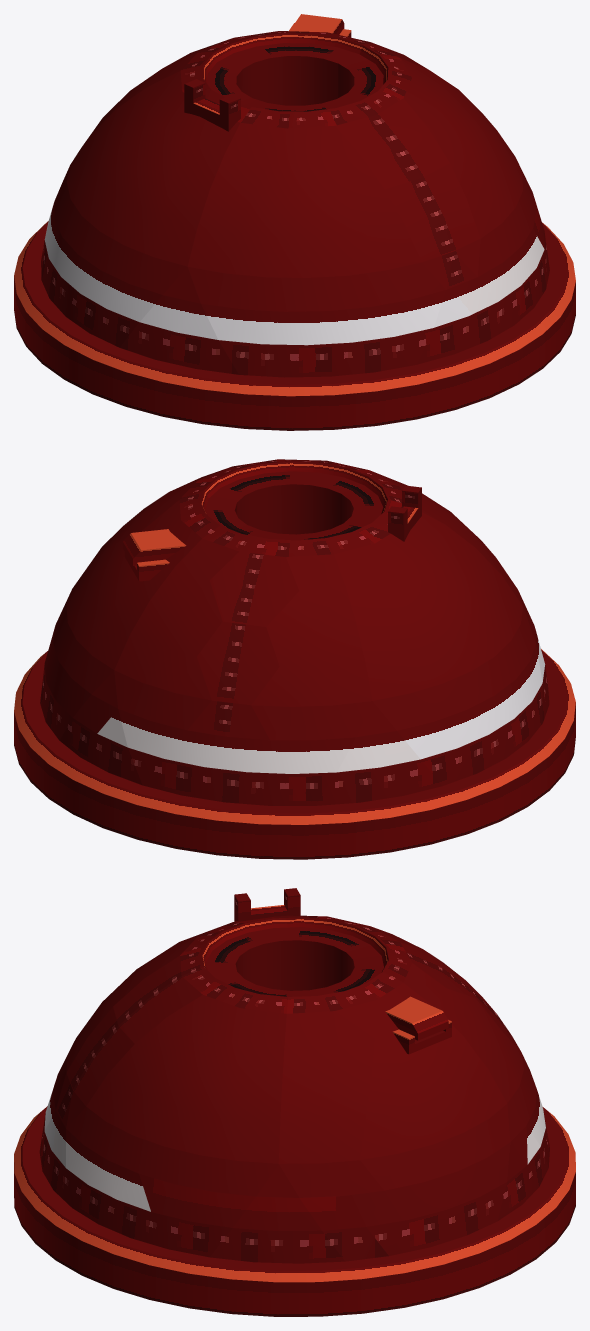
The model's file is Cannon.obj.
3 views of the same model, one above another, from view 1: azimuth 30°, elevation 25°; view 2: azimuth 150°, elevation 25°; view 3: azimuth 270°, elevation 25° (orthographic).
Bounding box in the file's own units: 6.58 × 3.31 × 6.58.
